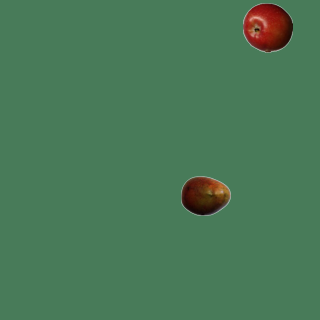Apple Braeburn: (242, 2, 292, 52)
Mango Red: (180, 170, 230, 220)
